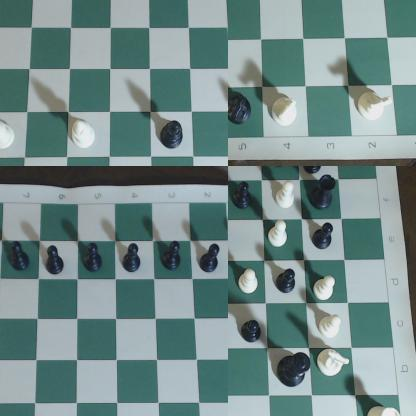black-bishop: (162, 120, 185, 155)
black-king: (278, 351, 311, 389)
black-knight: (229, 93, 252, 129)
black-pawn: (271, 263, 300, 299), (313, 222, 342, 255), (199, 240, 223, 278), (44, 246, 69, 279), (240, 320, 268, 349), (162, 239, 185, 274), (235, 183, 258, 217), (9, 240, 34, 271), (85, 242, 108, 275), (122, 243, 143, 278), (304, 167, 328, 176)
black-rook: (311, 174, 339, 212)
white-bishop: (71, 117, 98, 153), (1, 114, 17, 156)
white-knight: (356, 93, 394, 125), (317, 349, 353, 378), (274, 94, 302, 131)
white-pawn: (317, 312, 347, 342), (316, 273, 339, 310), (266, 223, 291, 255), (236, 269, 261, 298), (277, 181, 298, 213)
white-rook: (369, 402, 406, 416)
